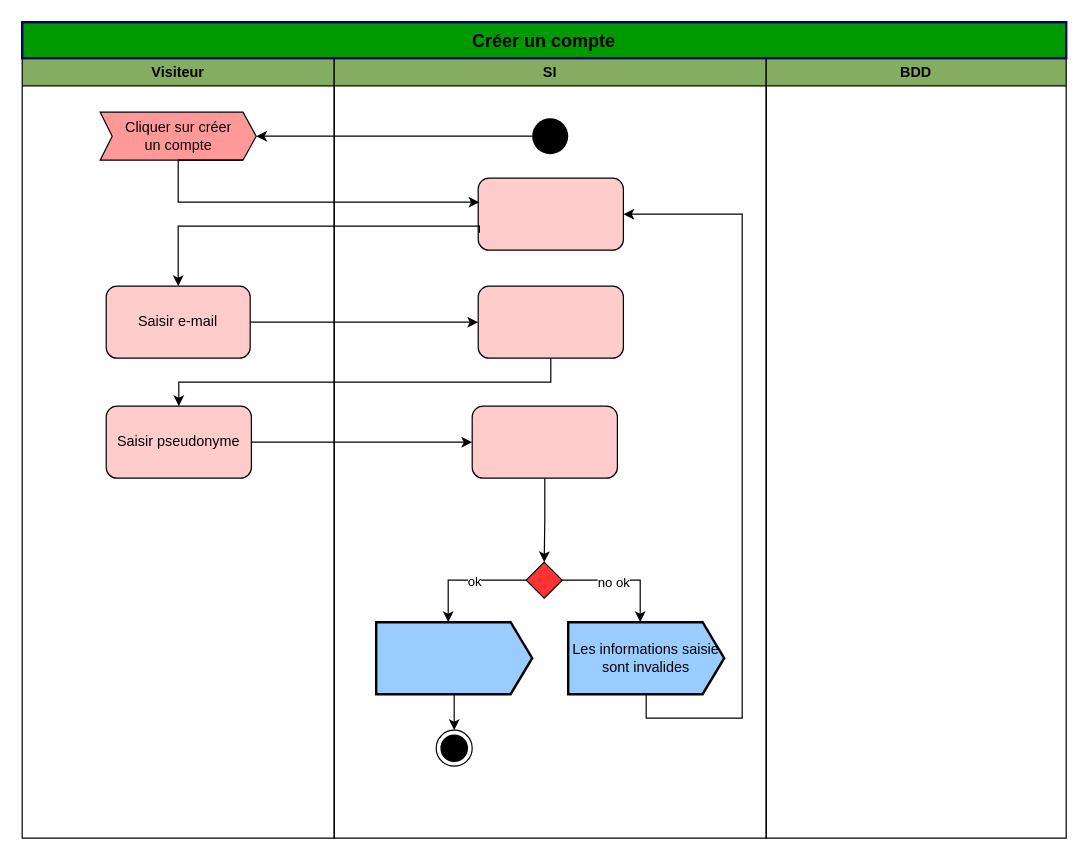
This 1087x859 diagram has some shape labels left out. Each missing label, with the box of its shape:
Demander e-mail: (477, 177, 623, 250)
Demander pseudonyme: (477, 285, 623, 358)
MSG:Bienvenue!: (374, 620, 533, 695)
Vérifier informations: (471, 405, 617, 478)
